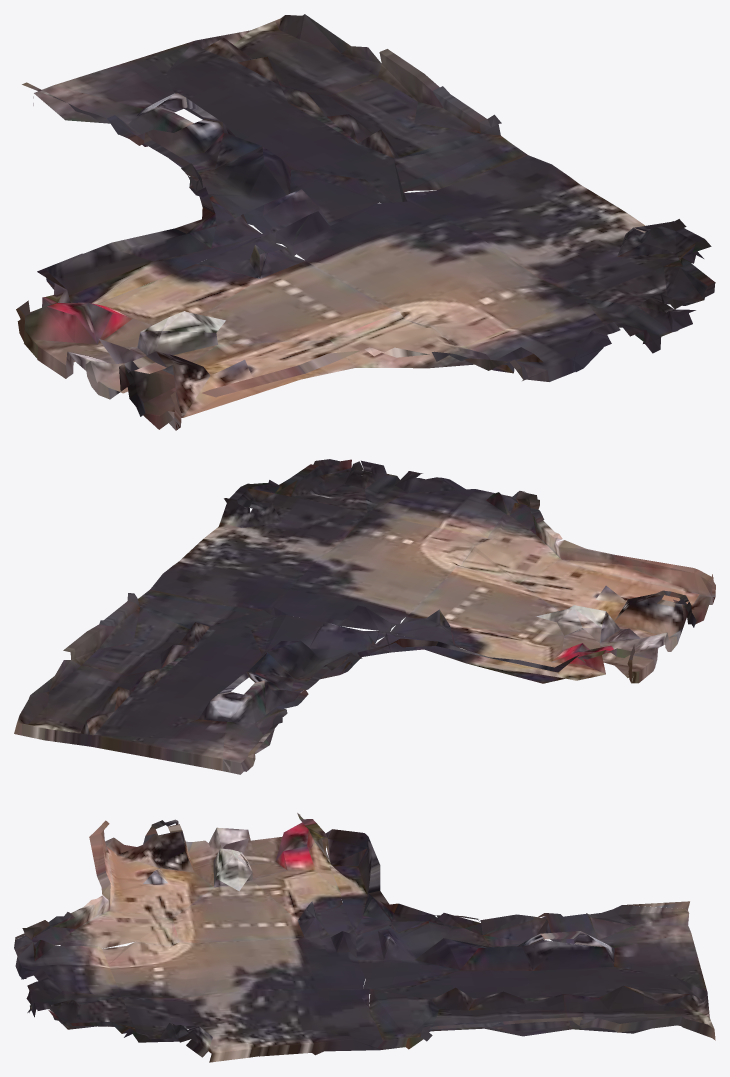
3 renders of one model, top to bottom at view 1: azimuth 30°, elevation 25°; view 2: azimuth 150°, elevation 25°; view 3: azimuth 270°, elevation 25°, orthographic. The views are drawn at different scales.
Parts seen in each view (by area): view 1: Mesh_0; view 2: Mesh_0; view 3: Mesh_0.
Part boxes in pixels (bbox=[...]): Mesh_0: bbox=[16, 14, 715, 430]; Mesh_0: bbox=[14, 459, 715, 774]; Mesh_0: bbox=[14, 813, 715, 1062].
Bounding box in the file's own units: 30.57 × 2.89 × 39.61.
Materials: 1 (1 with a texture image).
